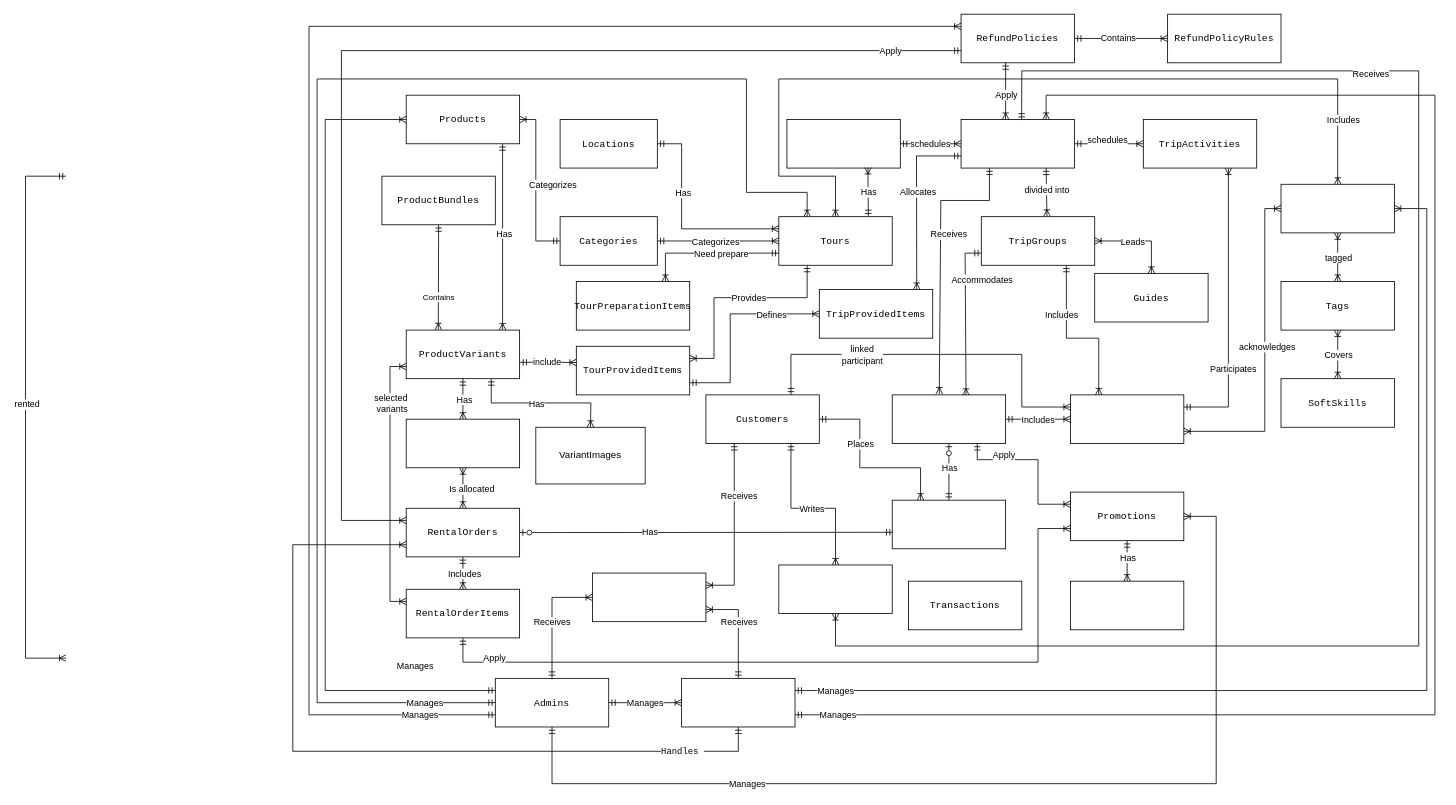
The diagram is 1456 pixels wide and 805 high, and some of its shapes have lost their labels. The centre of each missing label's shape, as x and y in pixels:
BookingParticipants: [1127,418]
EquipmentAssets: [462,443]
Notifications: [649,597]
Order: [948,524]
Posts: [1337,208]
PromotionTiers: [1127,605]
Reviews: [835,589]
StaffMembers: [738,702]
TourRecurrenceRules: [843,143]
TripBookingOrders: [948,418]
Trips: [1017,143]
